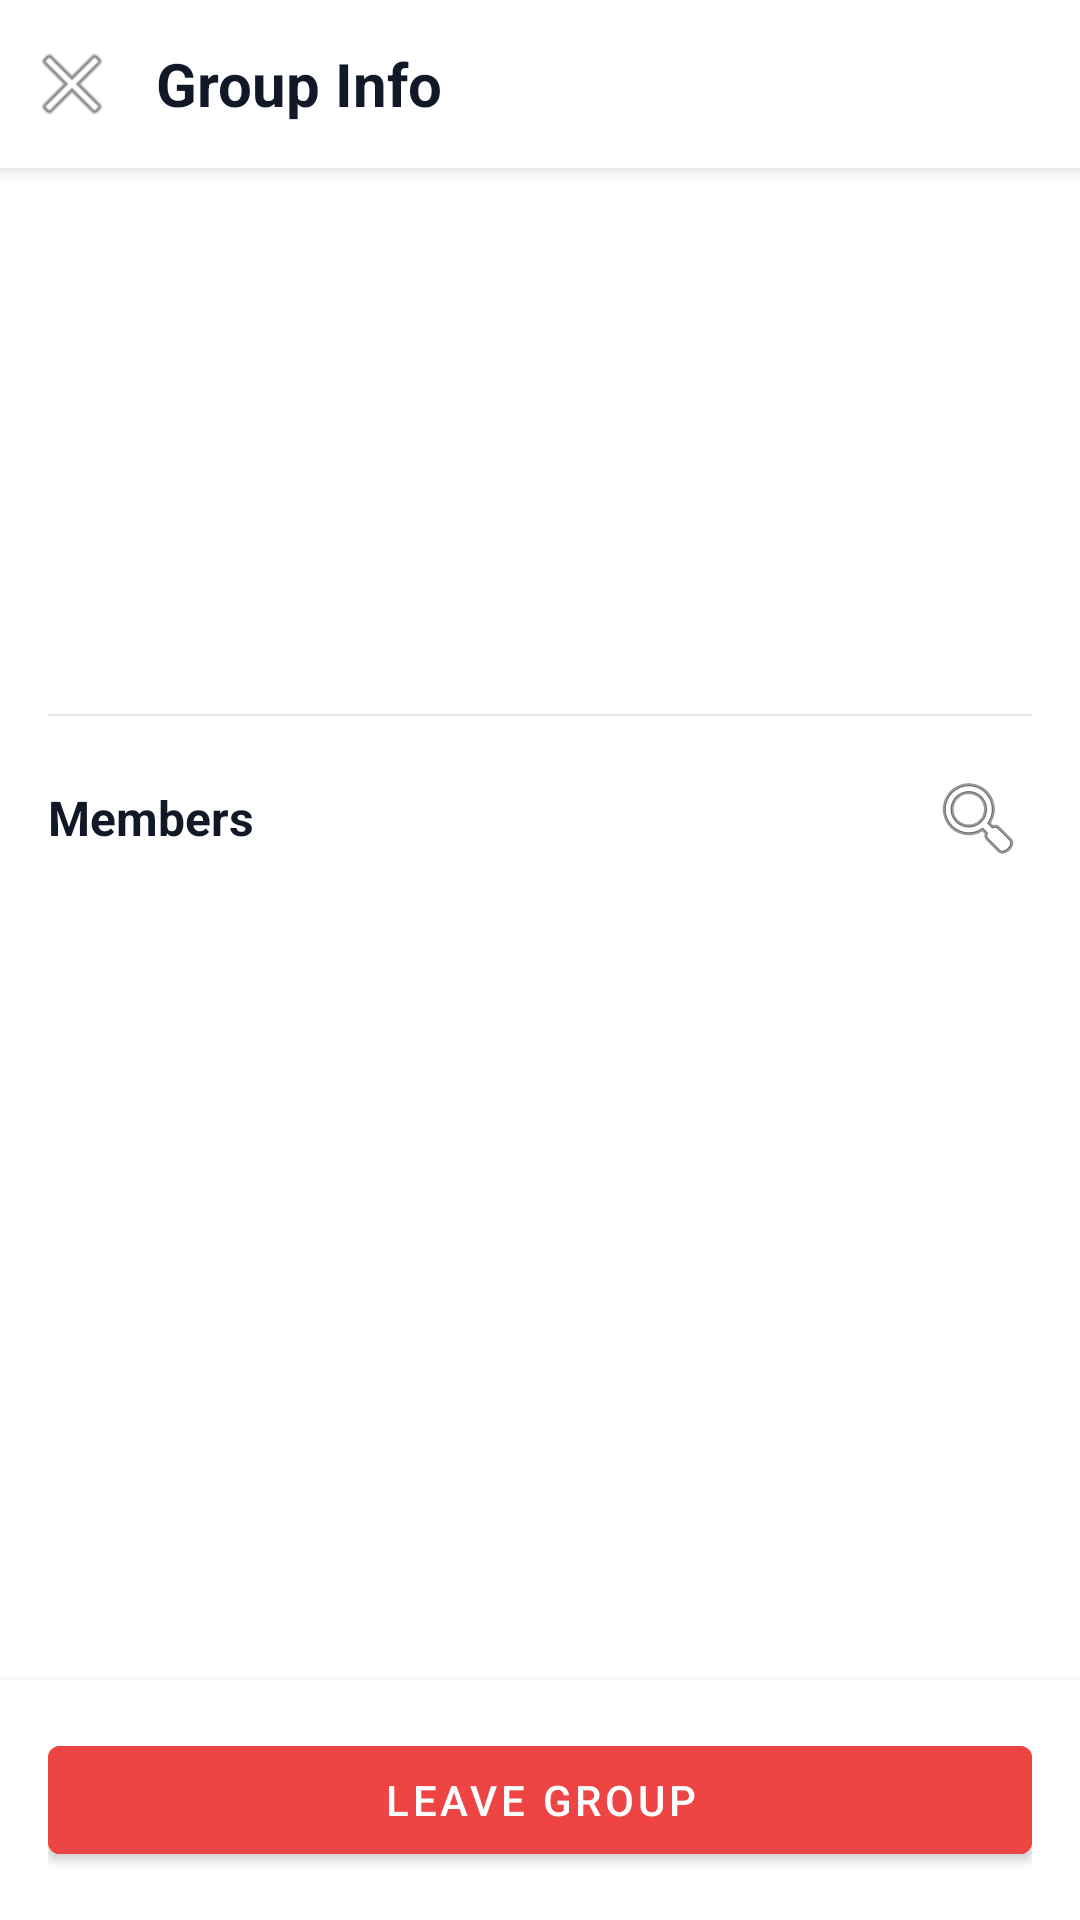

Icons on this 1080px×1920px Android screen, each with the point to tap as (x=x, y=y):
Close: (x=72, y=84)
